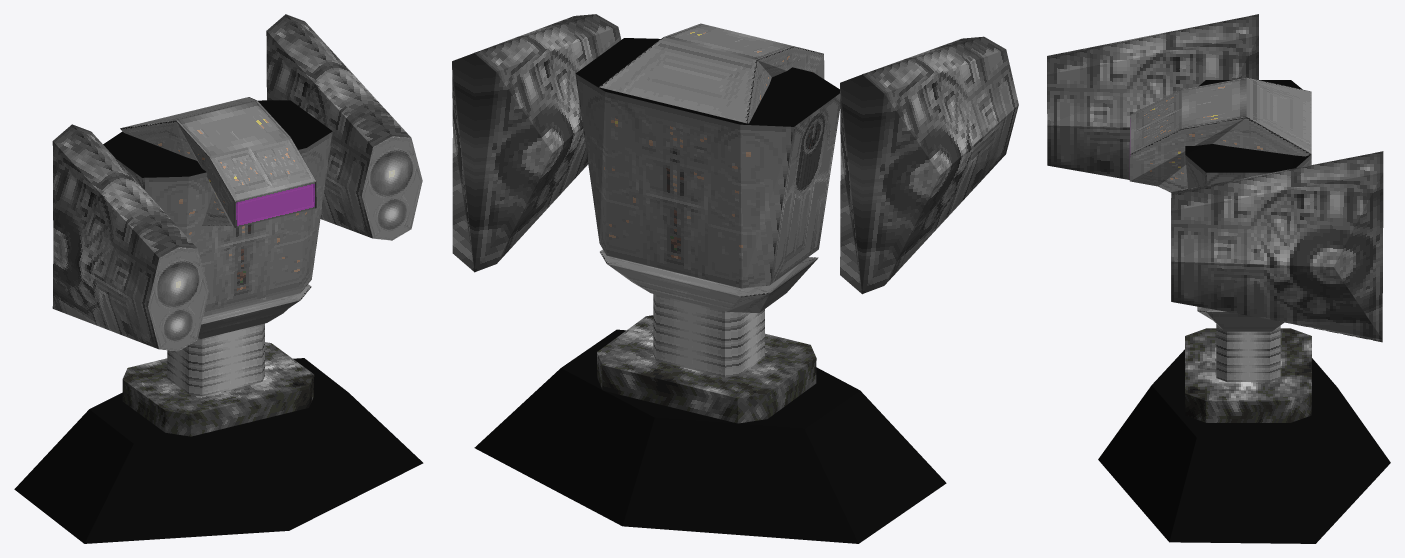
The model's file is alienbo1.obj.
3 renders of one model, left to right at view 1: azimuth 30°, elevation 25°; view 2: azimuth 150°, elevation 25°; view 3: azimuth 270°, elevation 25°, orthographic. The views are drawn at different scales.
Bounding box in the file's own units: 18.88 × 18.92 × 15.55.
12 materials, 12 textured.
